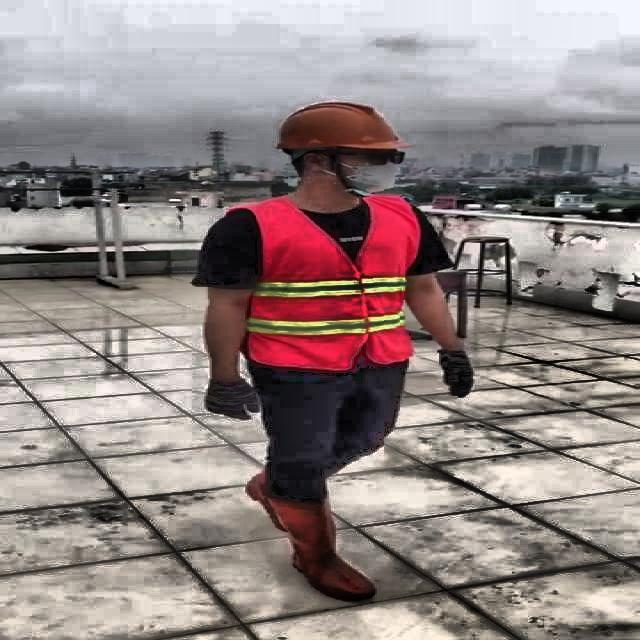safety_helmet: (270, 96, 410, 156)
safety_jacket: (242, 197, 419, 369)
